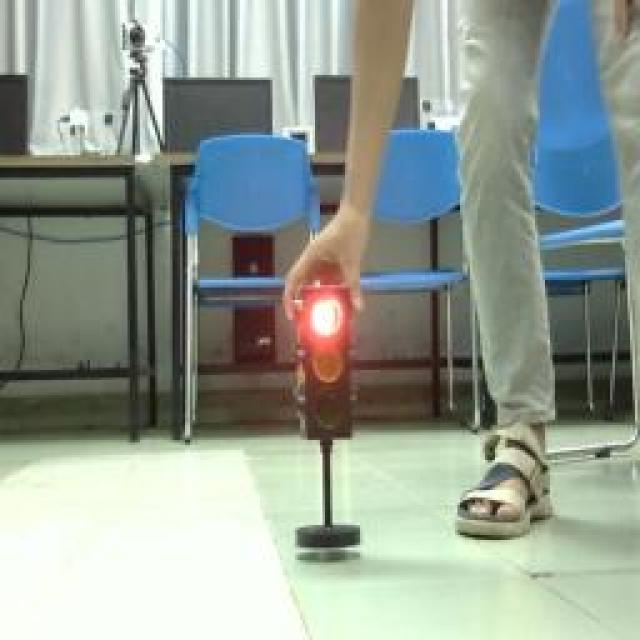-: (312, 296, 345, 338)
